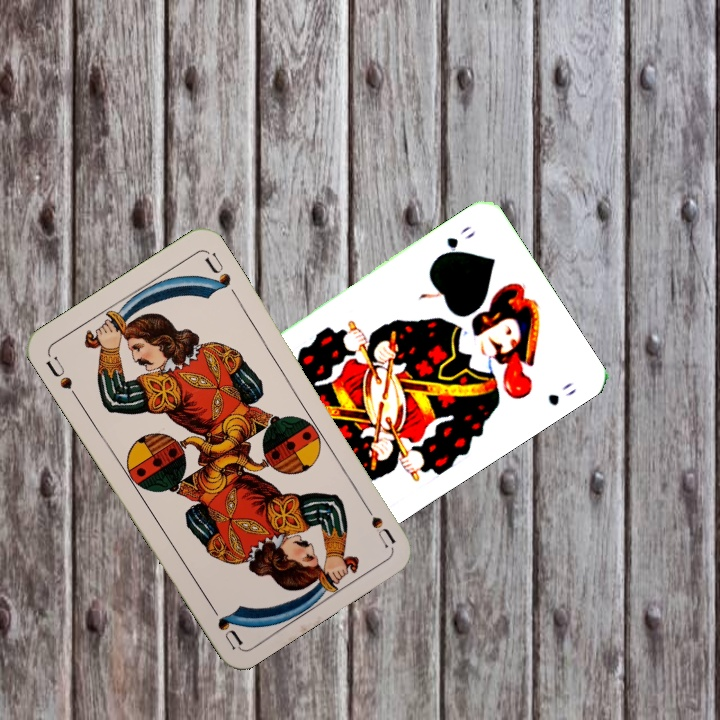GO: (432, 221, 478, 262)
SU: (357, 495, 398, 550), (42, 351, 82, 403)
